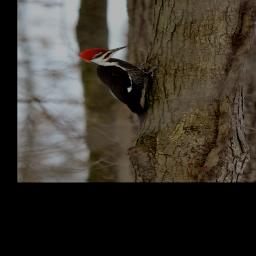Woodpecker: (77, 45, 163, 131)
